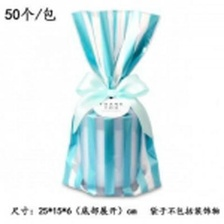snack: (52, 3, 169, 203)
